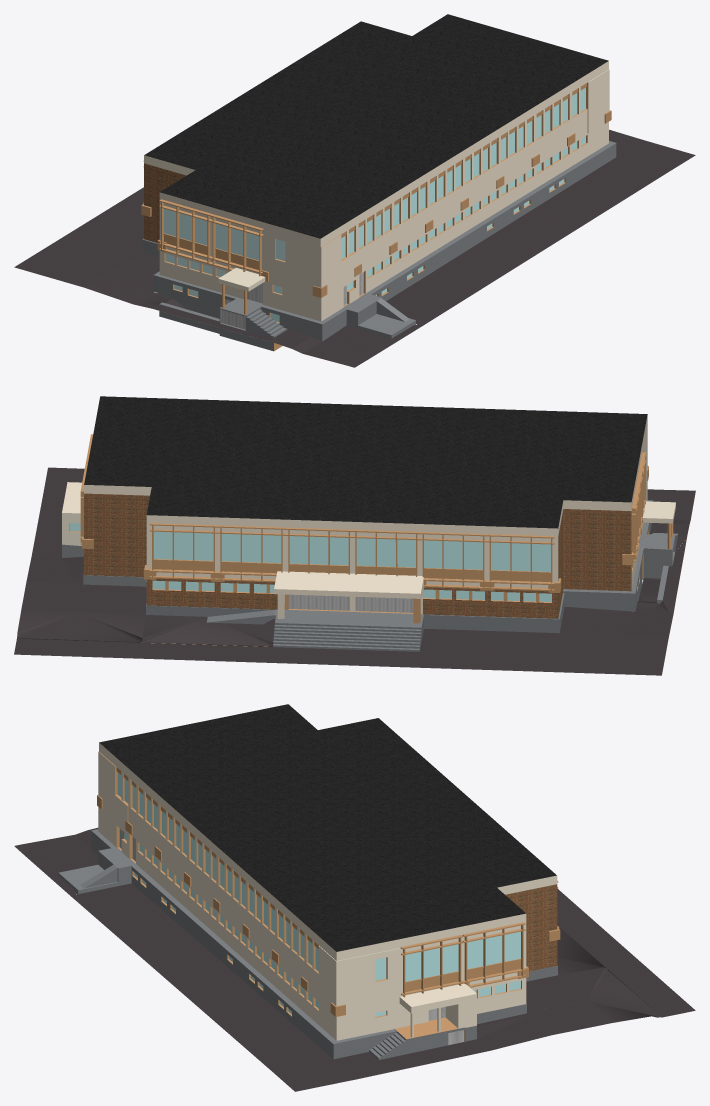
The model's file is cantina.glb.
3 views of the same model, one above another, from view 1: azimuth 30°, elevation 25°; view 2: azimuth 150°, elevation 25°; view 3: azimuth 270°, elevation 25° (orthographic). The views are drawn at different scales.
Parts seen in each view (by area): view 1: 3DGeom-15, 3DGeom-13, 3DGeom-7, 3DGeom-6, 3DGeom-5, 3DGeom-1, 3DGeom-11, 3DGeom-8, 3DGeom-4, 3DGeom-9, 3DGeom-2, 3DGeom-3 (+1 smaller); view 2: 3DGeom-15, 3DGeom-13, 3DGeom-9, 3DGeom-7, 3DGeom-11, 3DGeom-4, 3DGeom-10, 3DGeom-6, 3DGeom-1, 3DGeom-12, 3DGeom-2, 3DGeom-5 (+1 smaller); view 3: 3DGeom-15, 3DGeom-13, 3DGeom-7, 3DGeom-6, 3DGeom-11, 3DGeom-4, 3DGeom-1, 3DGeom-9, 3DGeom-3.
Part boxes in pixels (x1=…): 3DGeom-15: x1=144, y1=14, x2=608, y2=238; 3DGeom-13: x1=14, y1=129, x2=695, y2=367; 3DGeom-7: x1=320, y1=61, x2=609, y2=321; 3DGeom-6: x1=157, y1=141, x2=616, y2=351; 3DGeom-5: x1=159, y1=192, x2=321, y2=321; 3DGeom-1: x1=141, y1=82, x2=588, y2=350; 3DGeom-11: x1=270, y1=87, x2=585, y2=322; 3DGeom-8: x1=164, y1=208, x2=285, y2=296; 3DGeom-4: x1=141, y1=83, x2=611, y2=297; 3DGeom-9: x1=144, y1=163, x2=186, y2=242; 3DGeom-2: x1=144, y1=155, x2=265, y2=291; 3DGeom-3: x1=347, y1=69, x2=609, y2=256; 3DGeom-15: x1=84, y1=396, x2=647, y2=528; 3DGeom-13: x1=14, y1=467, x2=695, y2=675; 3DGeom-9: x1=84, y1=493, x2=631, y2=618; 3DGeom-7: x1=62, y1=482, x2=558, y2=618; 3DGeom-11: x1=69, y1=523, x2=551, y2=601; 3DGeom-4: x1=80, y1=434, x2=648, y2=592; 3DGeom-10: x1=146, y1=589, x2=635, y2=651; 3DGeom-6: x1=62, y1=500, x2=677, y2=624; 3DGeom-1: x1=69, y1=449, x2=695, y2=672; 3DGeom-12: x1=288, y1=550, x2=672, y2=612; 3DGeom-2: x1=558, y1=500, x2=675, y2=535; 3DGeom-5: x1=631, y1=415, x2=647, y2=589; 3DGeom-15: x1=99, y1=704, x2=556, y2=951; 3DGeom-13: x1=14, y1=827, x2=695, y2=1091; 3DGeom-7: x1=98, y1=743, x2=557, y2=1040; 3DGeom-6: x1=58, y1=829, x2=557, y2=1060; 3DGeom-11: x1=117, y1=772, x2=520, y2=1016; 3DGeom-4: x1=97, y1=767, x2=560, y2=1016; 3DGeom-1: x1=98, y1=751, x2=521, y2=1041; 3DGeom-9: x1=505, y1=884, x2=557, y2=971; 3DGeom-3: x1=121, y1=771, x2=399, y2=968.
Size of the model in its own units: 68.83 by 11.57 by 60.27.
18 materials, 7 textured.
